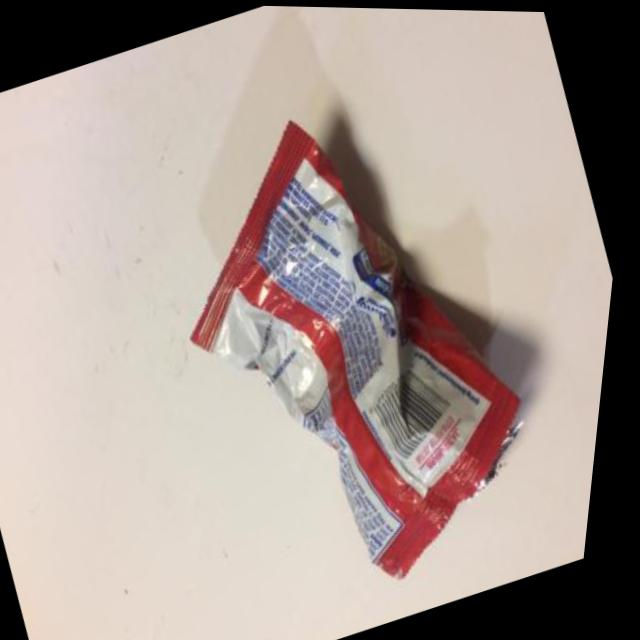trash: (26, 1, 640, 640)
